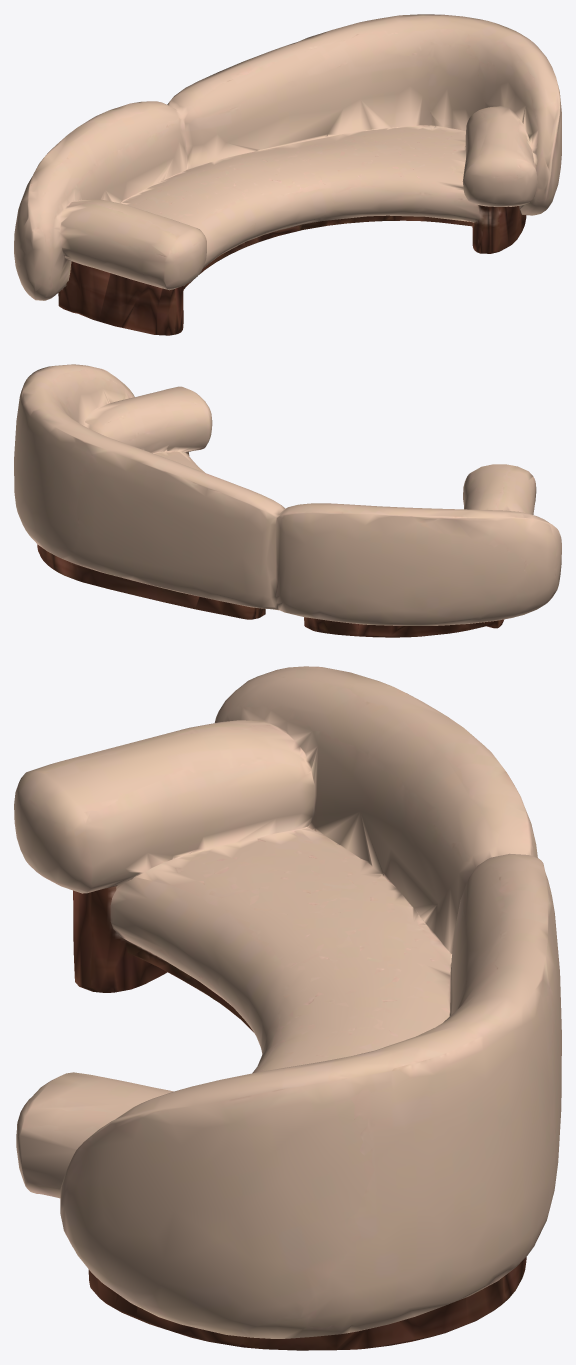
File: -WV414OkawfcCVqp14-pb.glb
The picture shows the model from 3 angles, top to bottom: view 1: azimuth 30°, elevation 25°; view 2: azimuth 150°, elevation 25°; view 3: azimuth 270°, elevation 25°; orthographic projection. The views are drawn at different scales.
Parts seen in each view (by area): view 1: geometry_0; view 2: geometry_0; view 3: geometry_0.
Boxes of the visible parts, box(x1,y1,x2,y2) form: geometry_0: box(14, 14, 561, 335); geometry_0: box(14, 364, 561, 637); geometry_0: box(14, 666, 561, 1350).
Bounding box in the file's own units: 1 × 0.2785 × 0.4641.
Materials: 1 (1 with a texture image).
